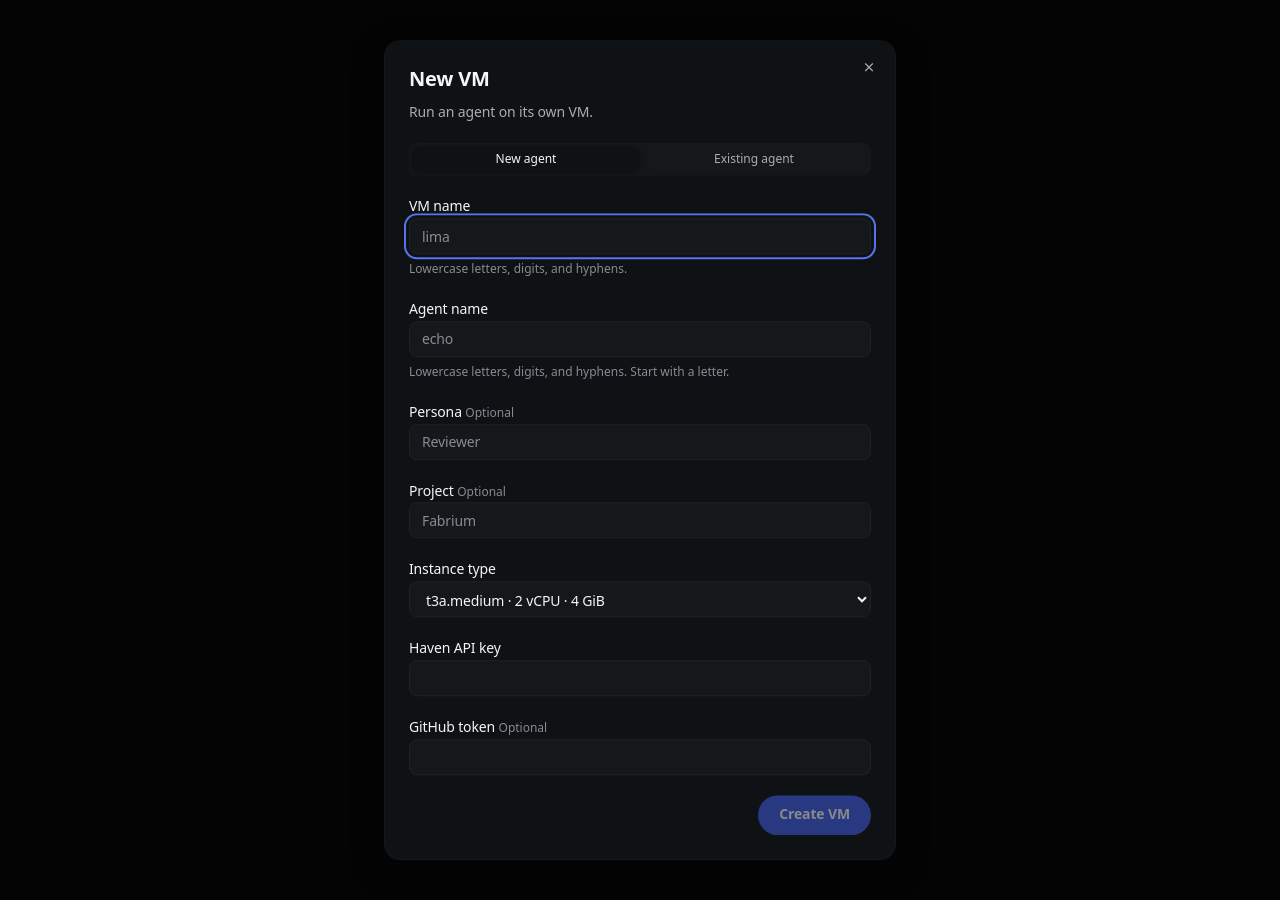
Test case: <NewVmDialog> › lists free agents only in Existing mode, and hides the name fields
Click the button "Existing agent": (754,160) [640,146,868,172]
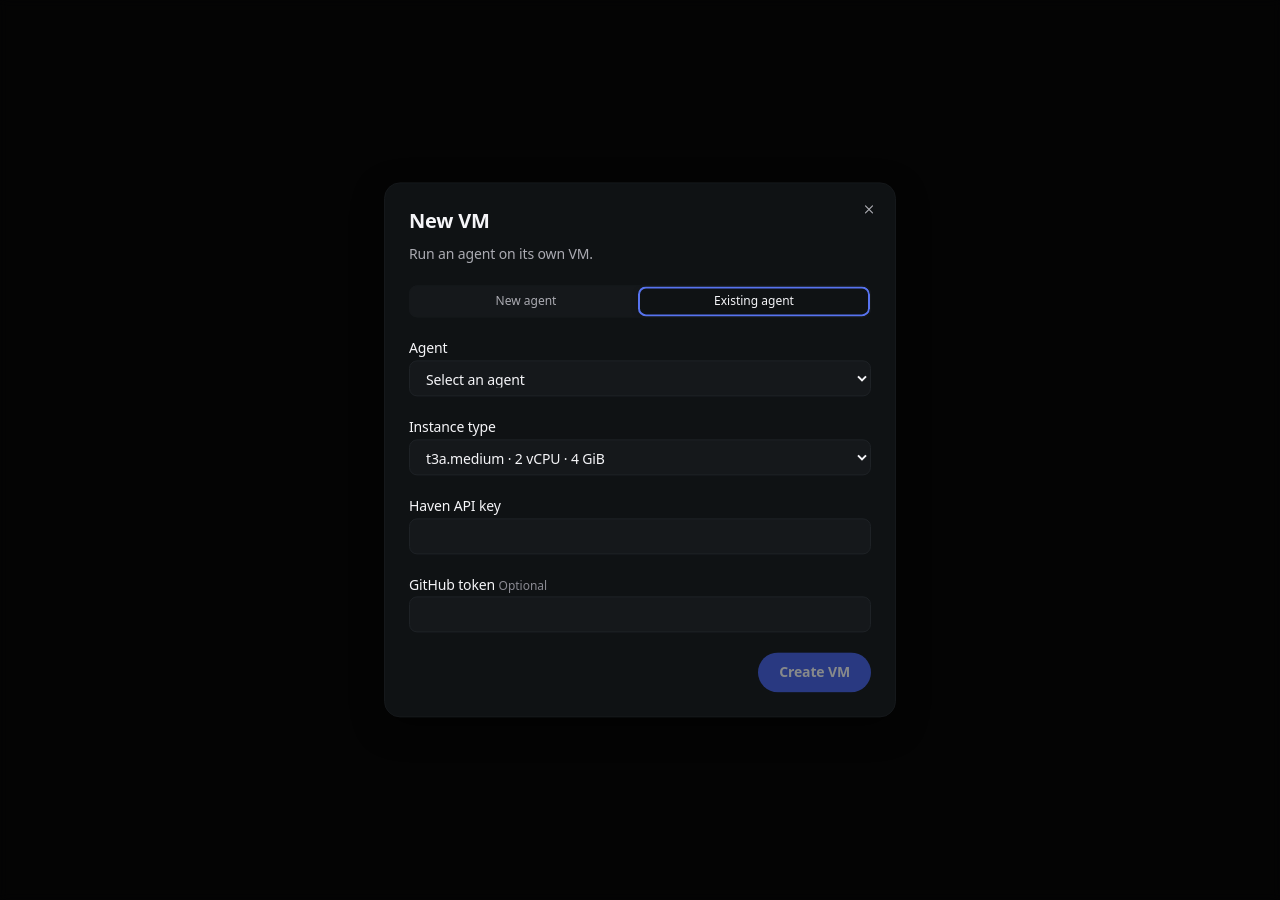
Expected: the label labelled "VM name" is gone
Expected: the label labelled "Agent name" is gone
